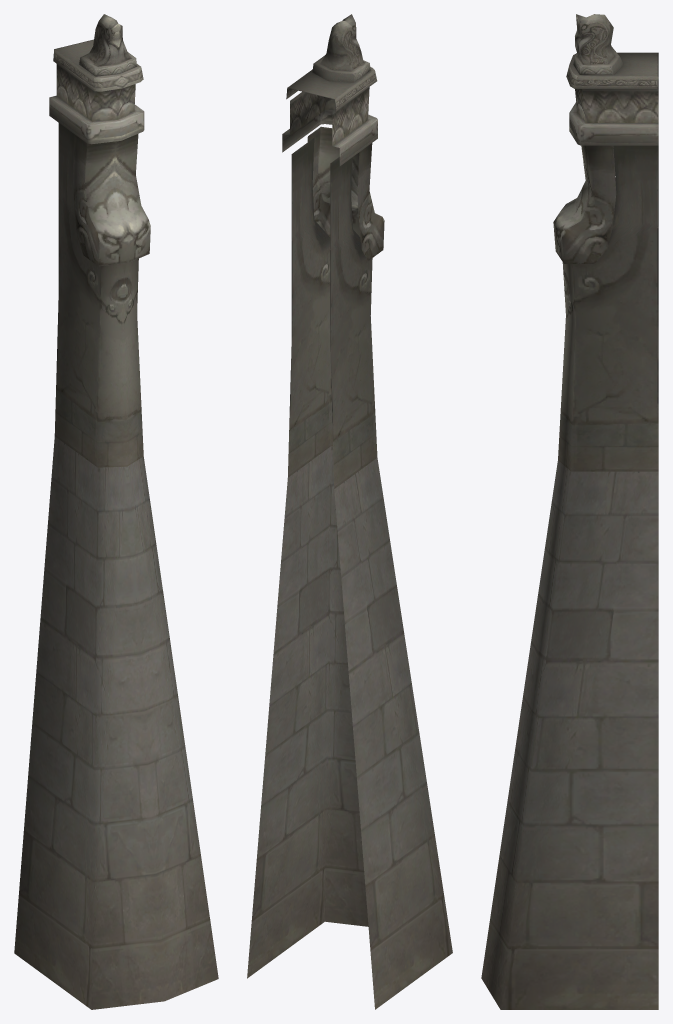
The model's file is cj_luoyang_shizhu01_55_43_6979out.fbx.
The picture shows the model from 3 angles, left to right: view 1: azimuth 30°, elevation 25°; view 2: azimuth 150°, elevation 25°; view 3: azimuth 270°, elevation 25°; orthographic projection. The views are drawn at different scales.
Visible parts, largest first — view 1: cj_luoyang_shizhu01; view 2: cj_luoyang_shizhu01; view 3: cj_luoyang_shizhu01.
Boxes of the visible parts, x1,y1,x2,y2 form: cj_luoyang_shizhu01: (14, 14, 218, 1009); cj_luoyang_shizhu01: (247, 14, 452, 1009); cj_luoyang_shizhu01: (481, 14, 658, 1009).
Bounding box in the file's own units: 3.5 × 24.86 × 4.14.
